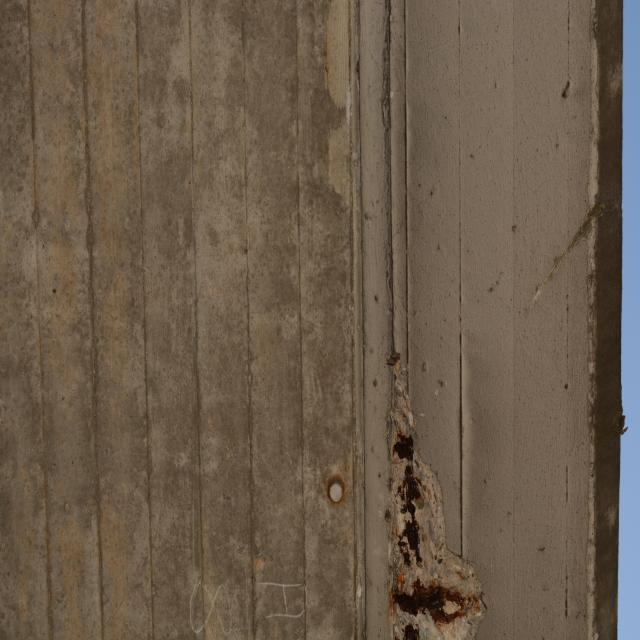Rebar: (386, 358, 489, 640)
diagonal crack: (533, 194, 622, 302)
vertical crack: (379, 1, 401, 374)
